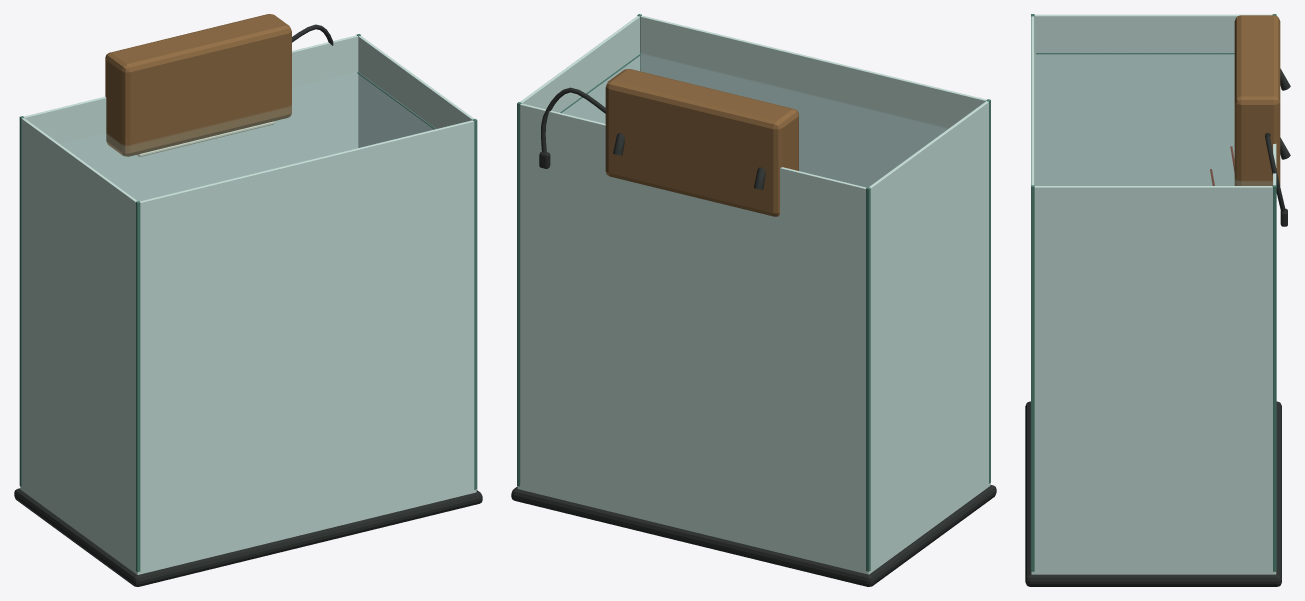
File: A-NEW-20261026-AQUARIUM-001_LOD1_R2.glb
3 renders of one model, left to right at view 1: azimuth 30°, elevation 25°; view 2: azimuth 150°, elevation 25°; view 3: azimuth 270°, elevation 25°, orthographic. The views are drawn at different scales.
Visible parts, largest first — view 1: front back glass, side glass, plain upper rear housing, front back glass.001, water surface, side glass.001, aquarium plinth, bottom glass, glass vertical edge seam, glass vertical edge seam.002, glass vertical edge seam.001; view 2: front back glass.001, side glass, front back glass, plain upper rear housing, water surface, aquarium plinth, side glass.001, bottom glass, glass vertical edge seam.001, glass vertical edge seam.003, glass vertical edge seam; view 3: side glass.001, side glass, water surface, plain upper rear housing, aquarium plinth, glass vertical edge seam.003, glass vertical edge seam.002, bottom glass, front back glass, short completed cable, side waterline.
Boxes of the visible parts, x1=… form: front back glass: x1=140, y1=120, x2=474, y2=570; side glass: x1=21, y1=118, x2=137, y2=569; plain upper rear housing: x1=105, y1=14, x2=291, y2=156; front back glass.001: x1=23, y1=35, x2=358, y2=201; water surface: x1=62, y1=73, x2=432, y2=200; side glass.001: x1=358, y1=36, x2=474, y2=147; aquarium plinth: x1=14, y1=488, x2=482, y2=586; bottom glass: x1=20, y1=486, x2=476, y2=574; glass vertical edge seam: x1=136, y1=201, x2=140, y2=572; glass vertical edge seam.002: x1=472, y1=119, x2=477, y2=489; glass vertical edge seam.001: x1=19, y1=116, x2=24, y2=486; front back glass.001: x1=520, y1=103, x2=866, y2=569; side glass: x1=869, y1=101, x2=988, y2=568; front back glass: x1=640, y1=15, x2=986, y2=187; plain upper rear housing: x1=605, y1=69, x2=798, y2=216; water surface: x1=562, y1=54, x2=946, y2=186; aquarium plinth: x1=511, y1=485, x2=996, y2=586; side glass.001: x1=520, y1=16, x2=639, y2=123; bottom glass: x1=517, y1=483, x2=990, y2=574; glass vertical edge seam.001: x1=866, y1=187, x2=870, y2=571; glass vertical edge seam.003: x1=517, y1=102, x2=521, y2=486; glass vertical edge seam: x1=986, y1=99, x2=990, y2=483; side glass.001: x1=1034, y1=186, x2=1272, y2=570; side glass: x1=1034, y1=14, x2=1272, y2=185; water surface: x1=1035, y1=54, x2=1272, y2=185; plain upper rear housing: x1=1234, y1=15, x2=1280, y2=185; aquarium plinth: x1=1025, y1=401, x2=1281, y2=586; glass vertical edge seam.003: x1=1272, y1=185, x2=1276, y2=571; glass vertical edge seam.002: x1=1031, y1=185, x2=1034, y2=571; bottom glass: x1=1031, y1=570, x2=1276, y2=574; front back glass: x1=1031, y1=16, x2=1034, y2=185; short completed cable: x1=1265, y1=133, x2=1285, y2=211; side waterline: x1=1036, y1=53, x2=1234, y2=54.
Size of the model in its own units: 0.514 by 0.6 by 0.3244.
